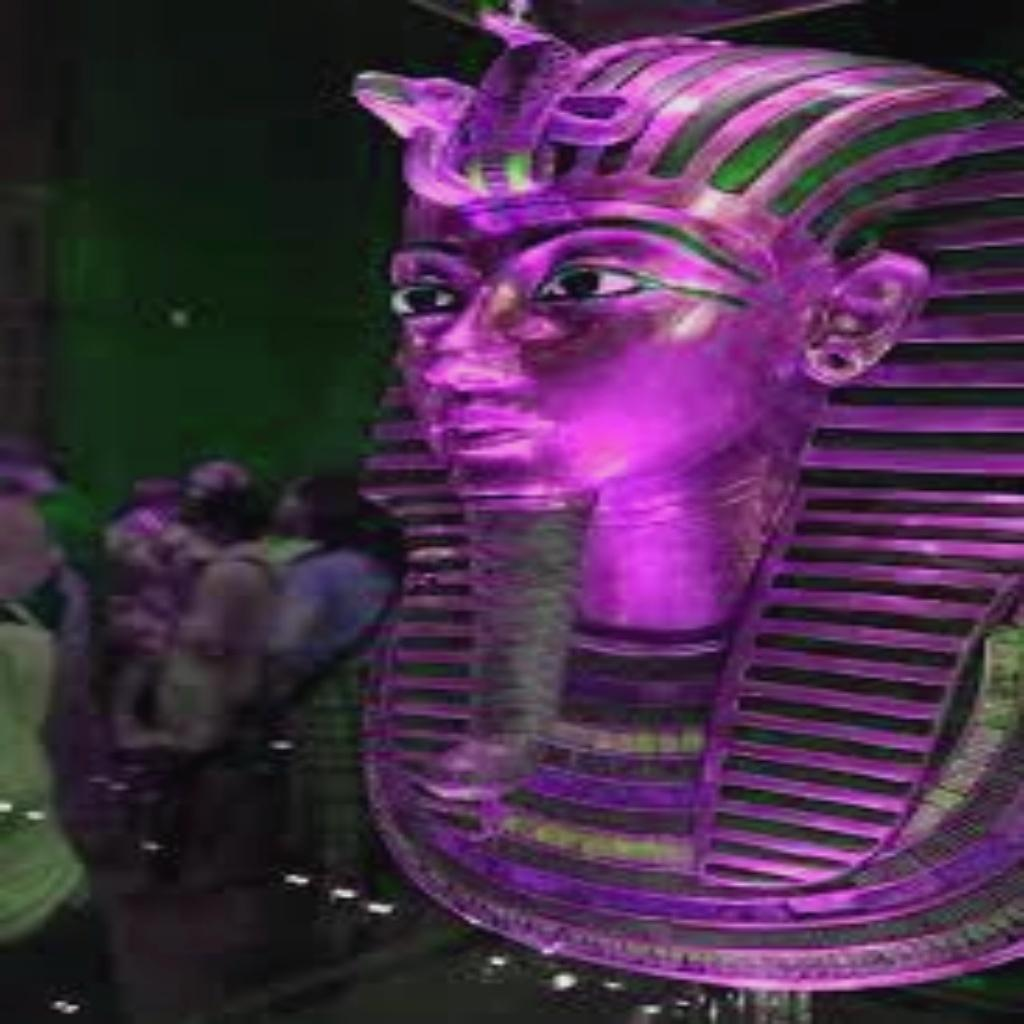Mask of Tutankhamun: (342, 15, 1018, 989)
